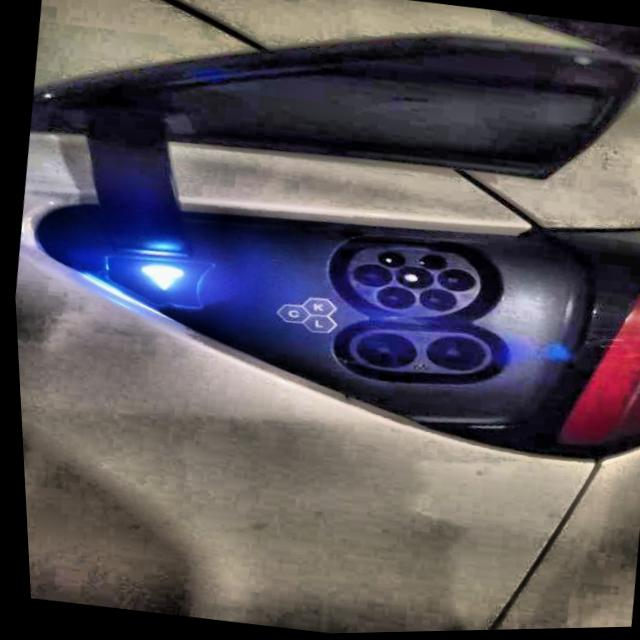inlet: (345, 248, 477, 318)
inlet-above-left: (374, 253, 403, 269)
inlet-above-right: (415, 256, 444, 272)
inlet-below-left: (373, 288, 412, 311)
inlet-below-right: (415, 291, 454, 313)
inlet-center: (392, 269, 432, 291)
inlet-center-left: (349, 266, 390, 289)
inlet-center-right: (433, 271, 473, 294)
